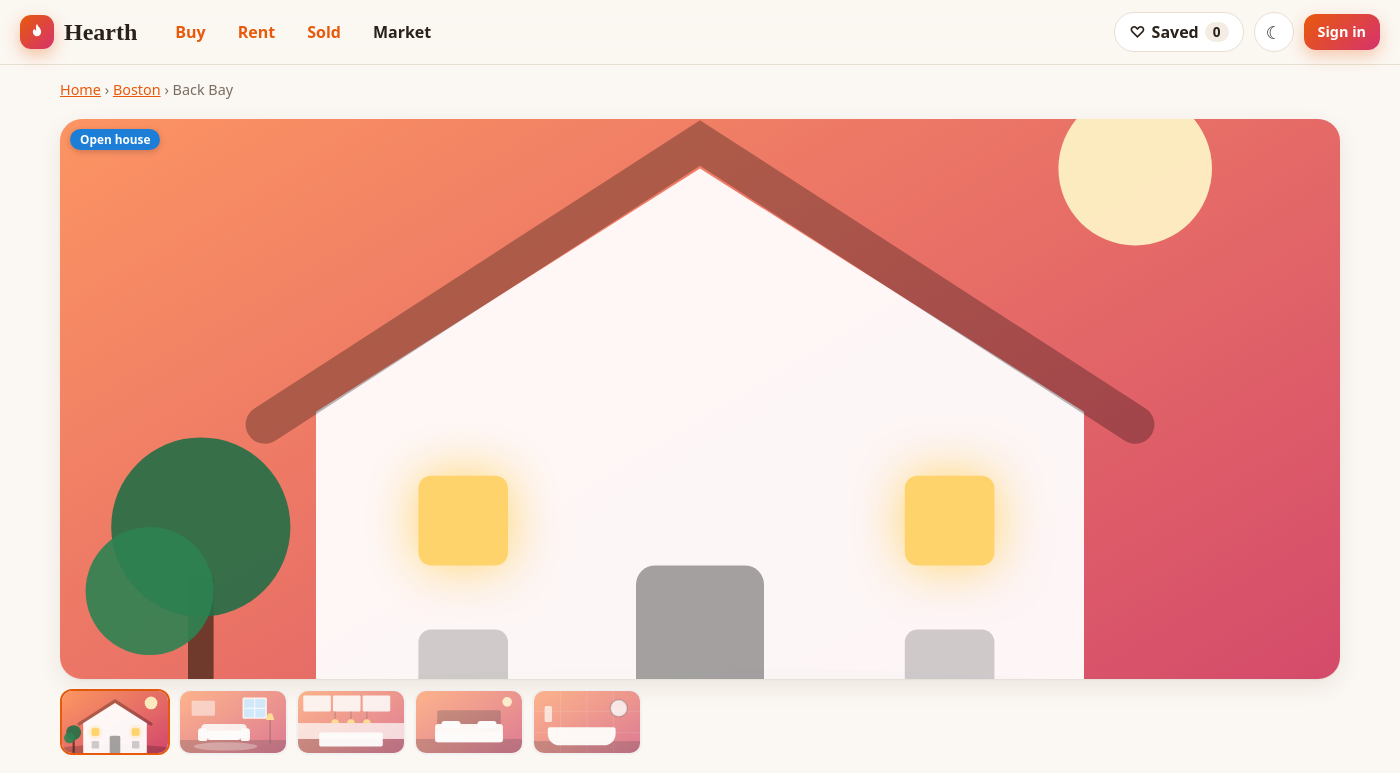
Test: listing page (stubbed) › gallery lightbox opens, navigates with arrow keys and closes with Esc
Click the button with test id "gallery-open" at (700, 399), box x1=60 y1=119 x2=1340 y2=679
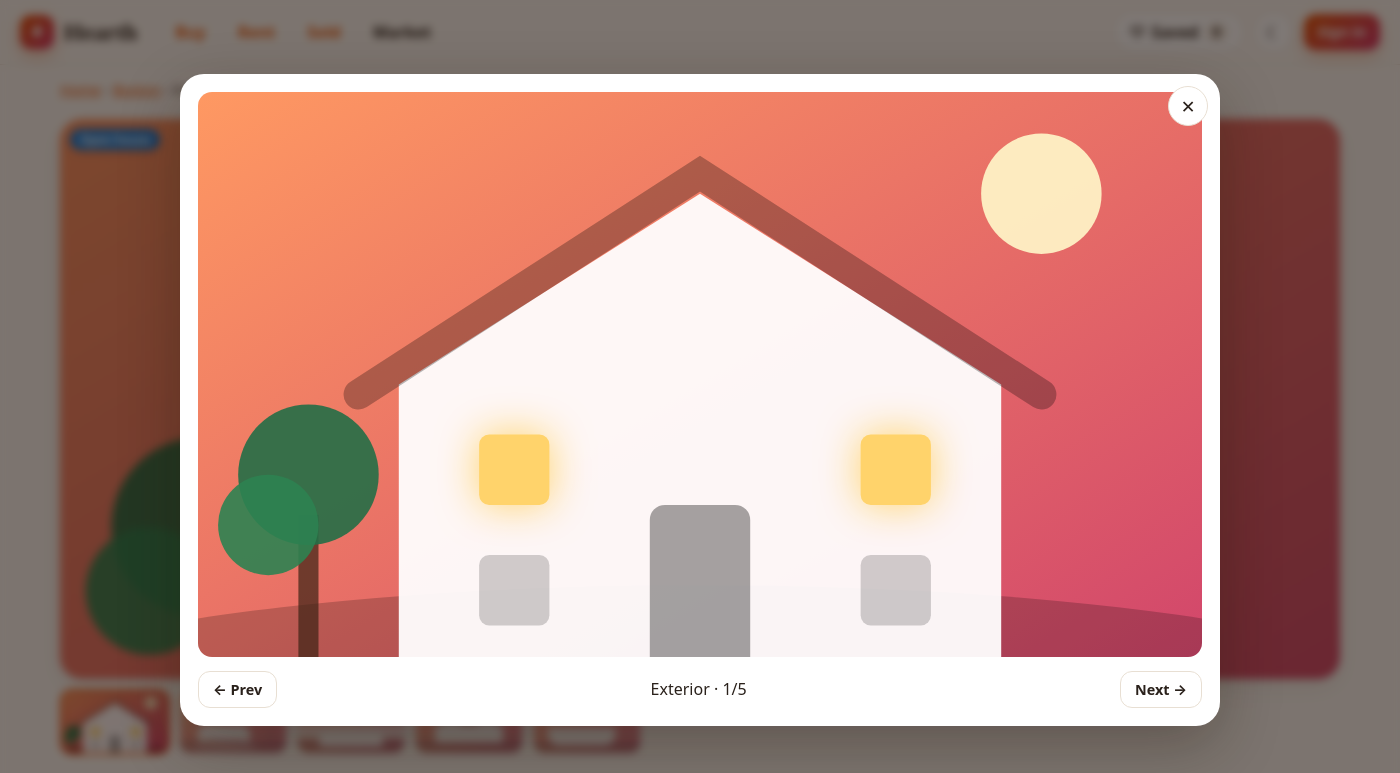
Check: the text "Exterior · 1/5" is shown, box x1=651 y1=677 x2=747 y2=701
Press Rightarrow
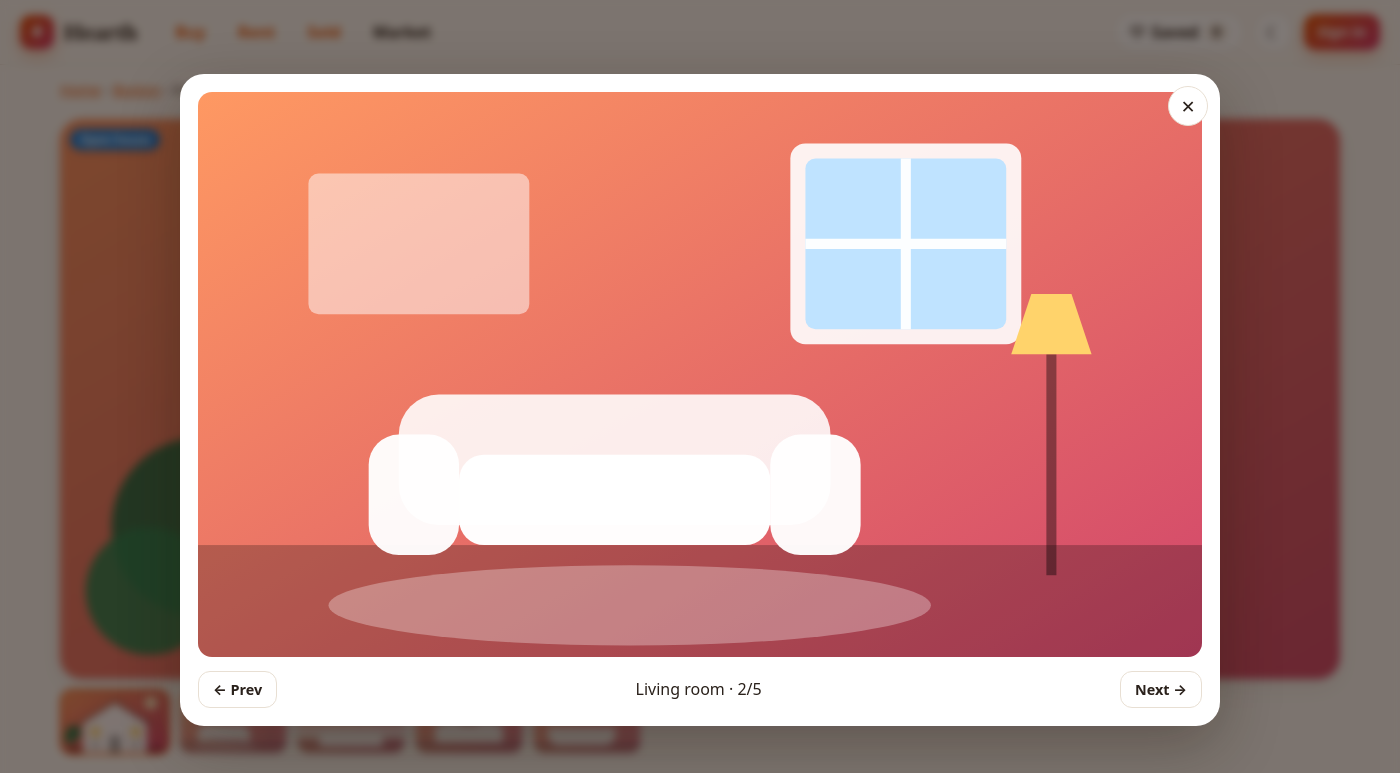
Check: the text "Living room · 2/5" is shown, box x1=636 y1=677 x2=762 y2=701
Press Esc
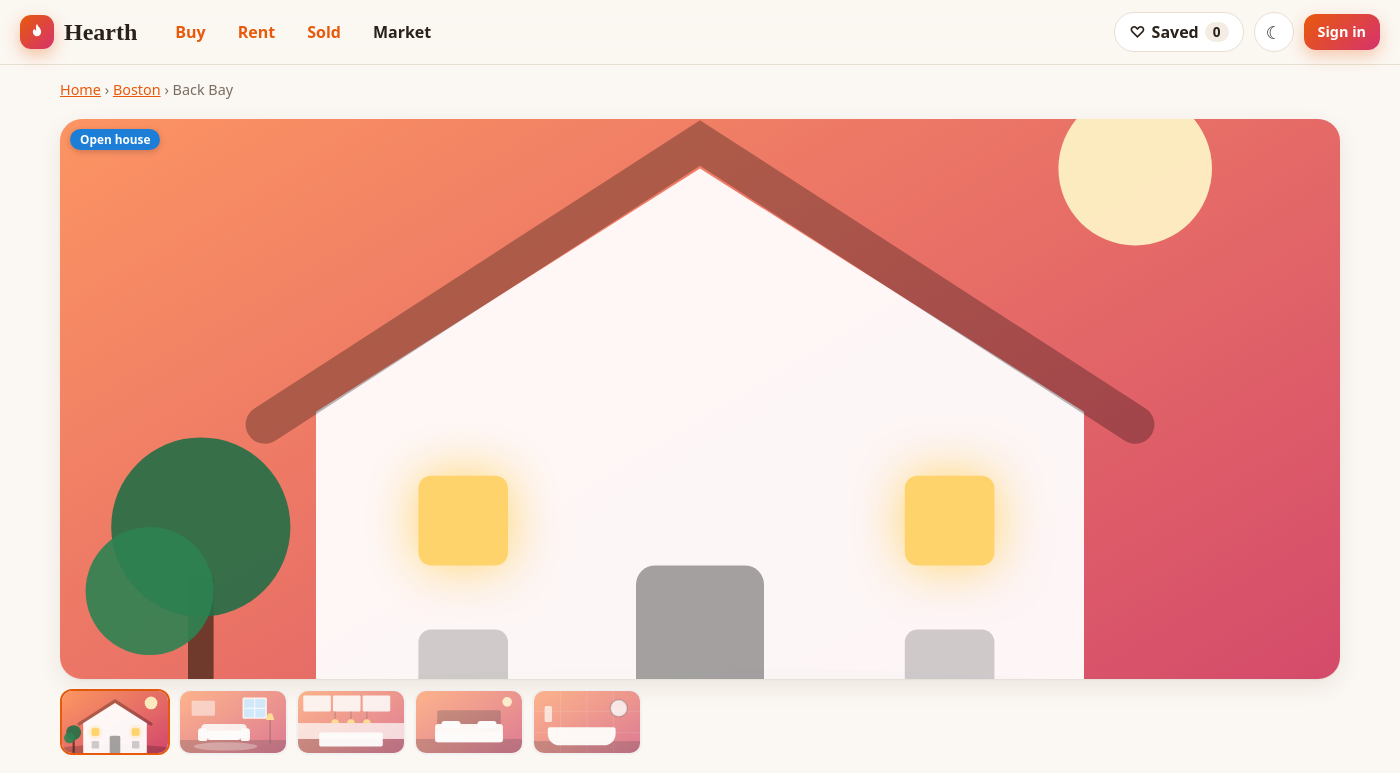
Check: the dialog is gone
